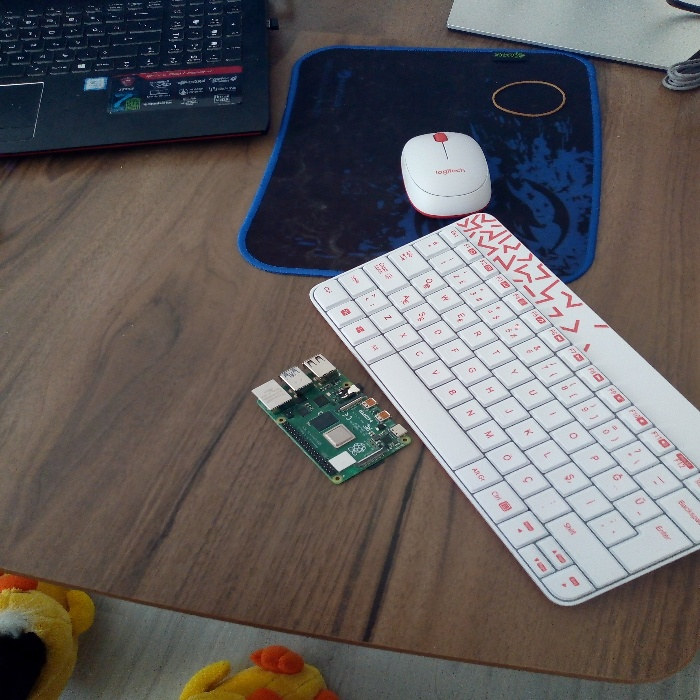raspberry: (256, 342, 408, 488)
